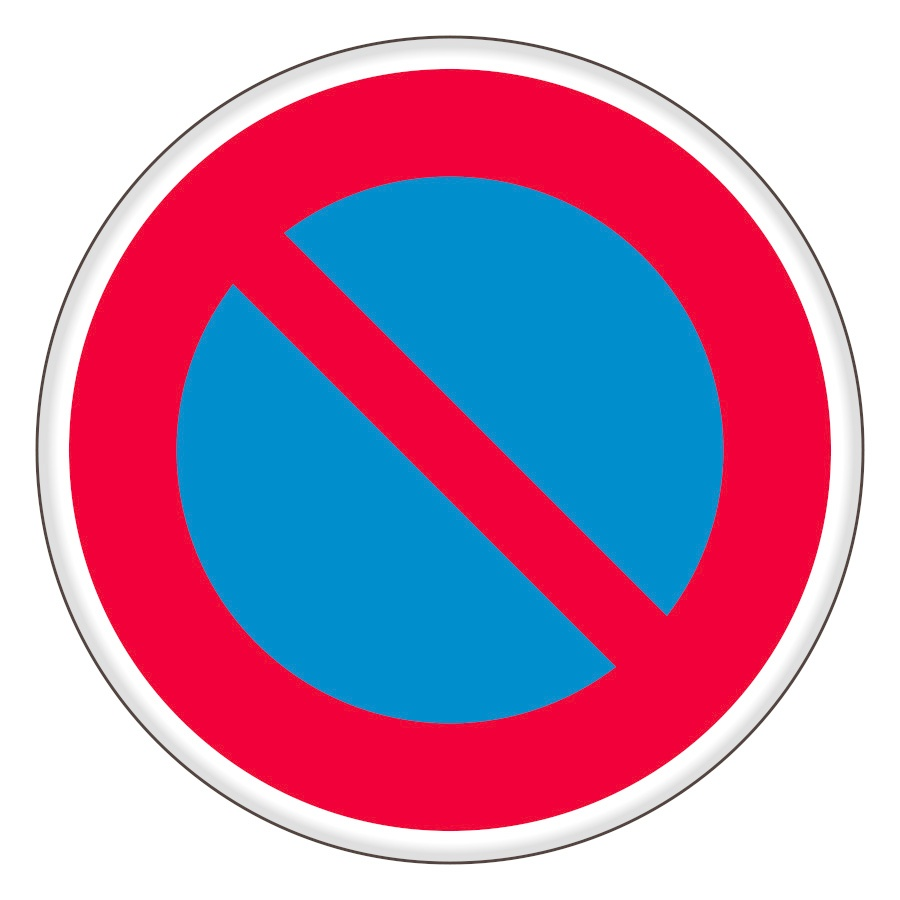Prohibition_sign: (36, 33, 877, 875)
